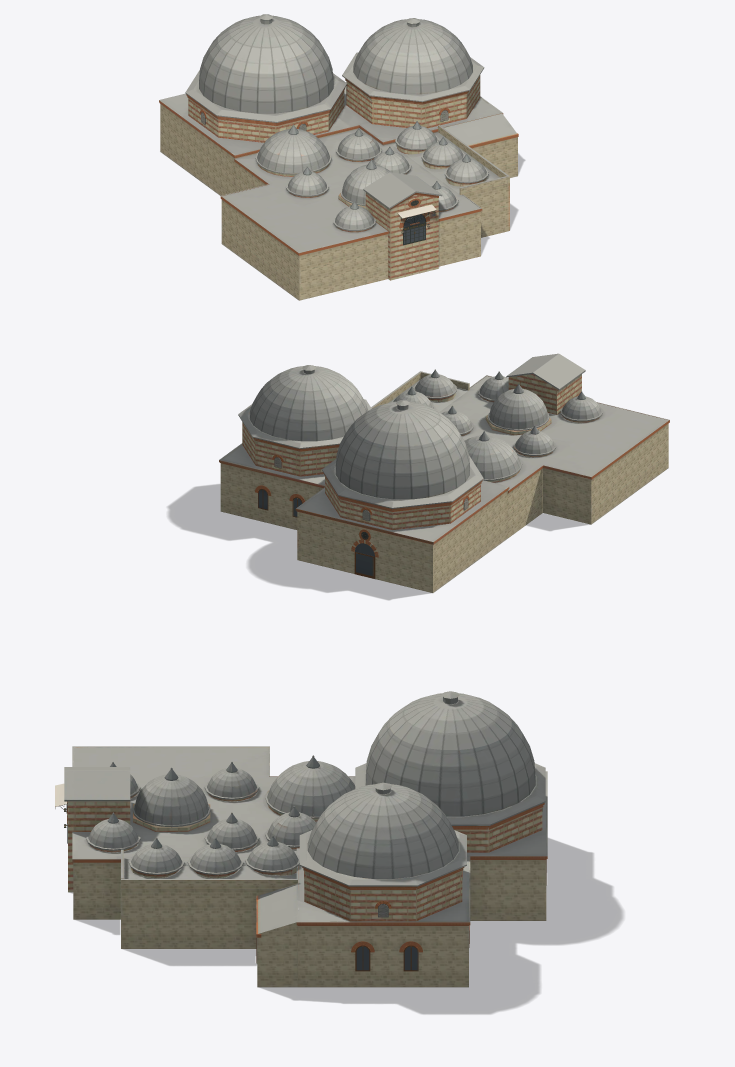
Rendered from orhan-bey-hamami_v08_harita_pisik.glb.
The picture shows the model from 3 angles, top to bottom: view 1: azimuth 30°, elevation 25°; view 2: azimuth 150°, elevation 25°; view 3: azimuth 270°, elevation 25°; orthographic projection. The views are drawn at different scales.
Parts seen in each view (by area): view 1: Hamam_Sicaklik, Hamam_Sogukluk_Erkek, Hamam_Sogukluk_Kadin, Hamam_Giris, Hamam_Giris_Kadin; view 2: Hamam_Sogukluk_Erkek, Hamam_Sicaklik, Hamam_Sogukluk_Kadin, Harita_Golge, Hamam_Giris; view 3: Hamam_Sicaklik, Hamam_Sogukluk_Kadin, Hamam_Sogukluk_Erkek, Harita_Golge, Hamam_Giris, Hamam_Giris_Kadin.
Boxes of the visible parts, x1,y1,x2,y2 form: Hamam_Sicaklik: (220, 121, 509, 300); Hamam_Sogukluk_Erkek: (159, 14, 368, 195); Hamam_Sogukluk_Kadin: (342, 18, 503, 145); Hamam_Giris: (363, 172, 442, 280); Hamam_Giris_Kadin: (444, 113, 518, 177); Hamam_Sogukluk_Erkek: (295, 400, 509, 592); Hamam_Sicaklik: (371, 369, 669, 537); Hamam_Sogukluk_Kadin: (219, 365, 371, 529); Harita_Golge: (168, 484, 588, 599); Hamam_Giris: (506, 353, 585, 414); Hamam_Sicaklik: (72, 746, 355, 948); Hamam_Sogukluk_Kadin: (296, 782, 470, 987); Hamam_Sogukluk_Erkek: (355, 691, 547, 920); Harita_Golge: (69, 838, 622, 1014); Hamam_Giris: (55, 767, 130, 892); Hamam_Giris_Kadin: (256, 884, 297, 987).
Size of the model in its own units: 45.82 by 15.2 by 52.
Materials: 2 (2 with a texture image).
